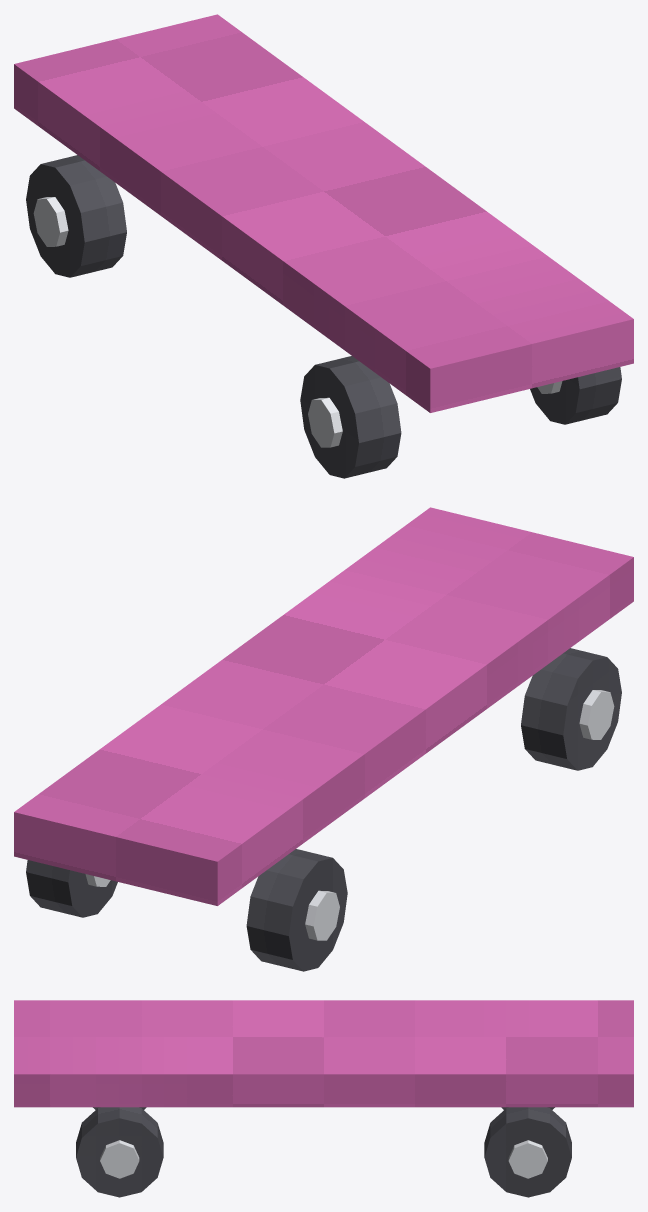
Rendered from retro-arcade-and-mall-1989-skateboard-0744af8a__15550.glb.
3 renders of one model, top to bottom at view 1: azimuth 30°, elevation 25°; view 2: azimuth 150°, elevation 25°; view 3: azimuth 270°, elevation 25°, orthographic. The views are drawn at different scales.
Parts seen in each view (by area): view 1: skateboard; view 2: skateboard; view 3: skateboard.
Part boxes in pixels (box(x1,y1,x2,y2)): skateboard: box(14, 14, 633, 478); skateboard: box(14, 507, 633, 971); skateboard: box(14, 1000, 633, 1197).
Bounding box in the file's own units: 0.33 × 0.17 × 0.85.
3 materials, 2 textured.
